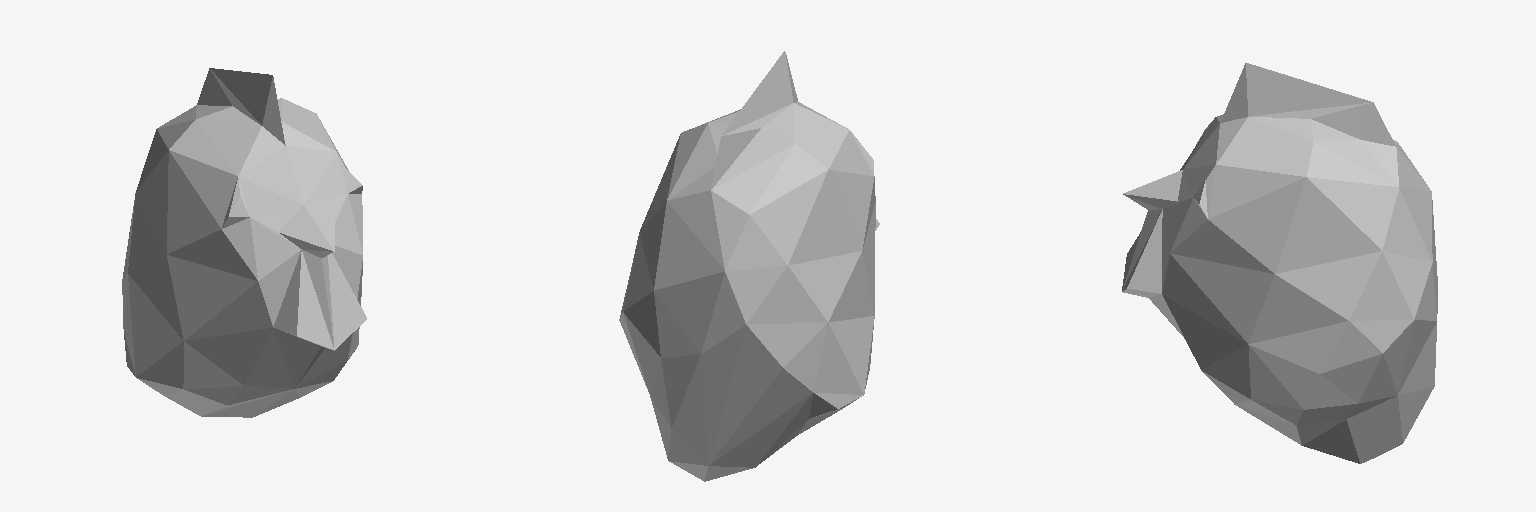
Rendered from sign3.obj.
The picture shows the model from 3 angles: view 1: azimuth 30°, elevation 25°; view 2: azimuth 150°, elevation 25°; view 3: azimuth 270°, elevation 25°; orthographic projection.
Visible parts, largest first — view 1: chickenhead_Cube.028; view 2: chickenhead_Cube.028; view 3: chickenhead_Cube.028.
Boxes of the visible parts, x1=… form: chickenhead_Cube.028: x1=122, y1=68, x2=366, y2=417; chickenhead_Cube.028: x1=619, y1=51, x2=879, y2=481; chickenhead_Cube.028: x1=1122, y1=63, x2=1437, y2=463.
Size of the model in its own units: 0.3263 by 0.5581 by 0.4135.